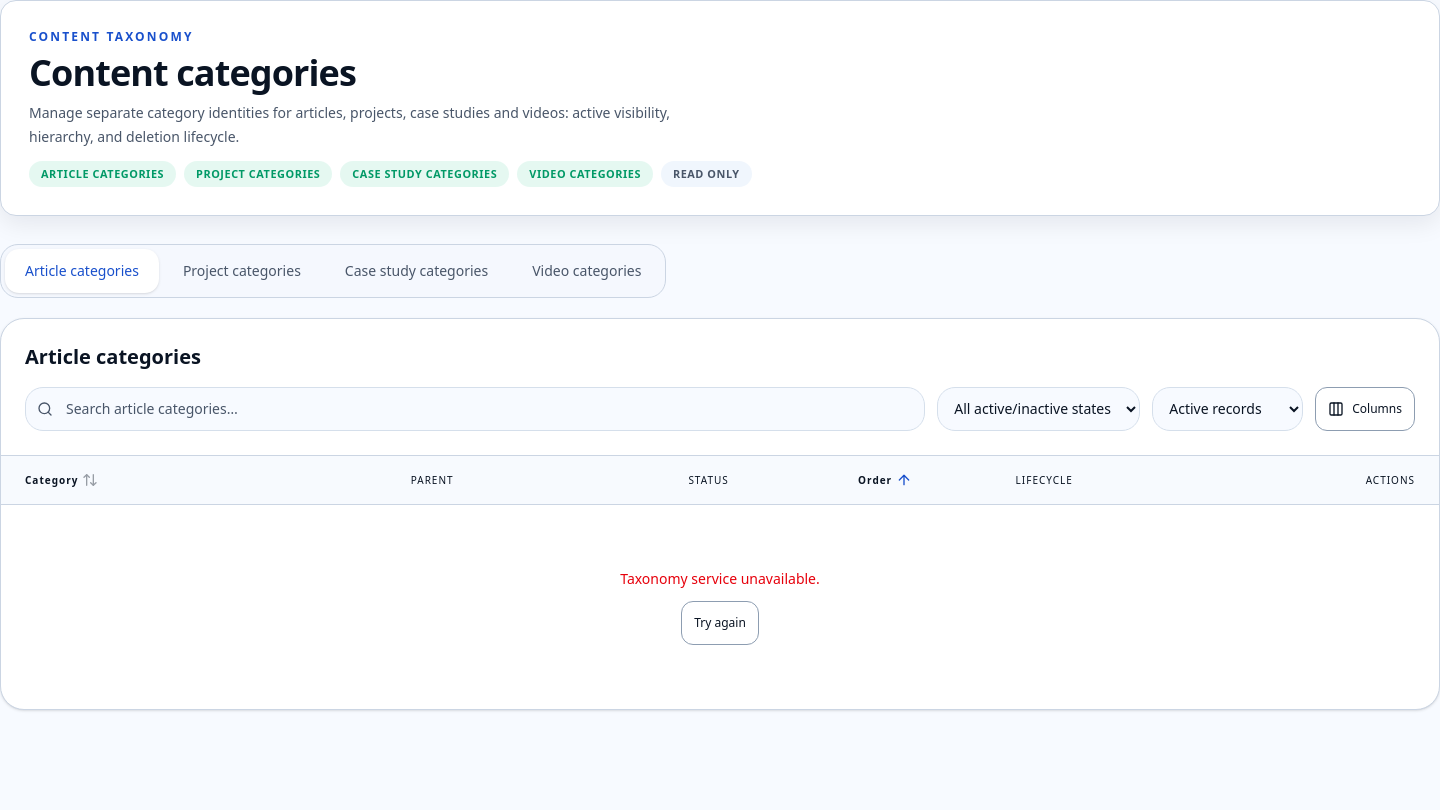
Test case: Taxonomy admin workspace › renders retryable read errors and an honest remote empty state
Expected: the text "Taxonomy service unavailable." is shown, [620, 569, 820, 589]
Click the button "Try again" at {"x": 720, "y": 623}, box [681, 601, 759, 645]
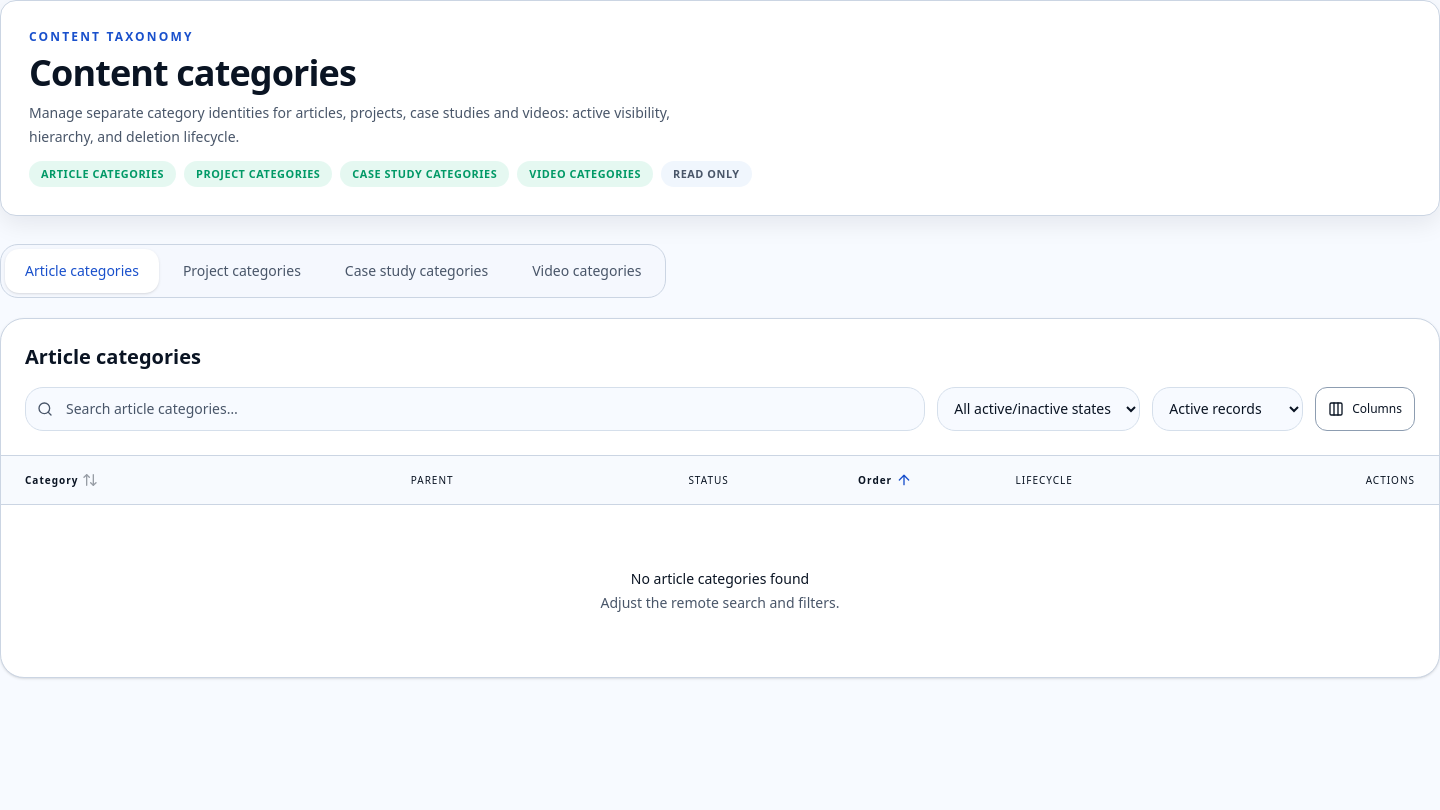
Result: the text "No article categories found" is shown at [631, 569, 809, 589]
